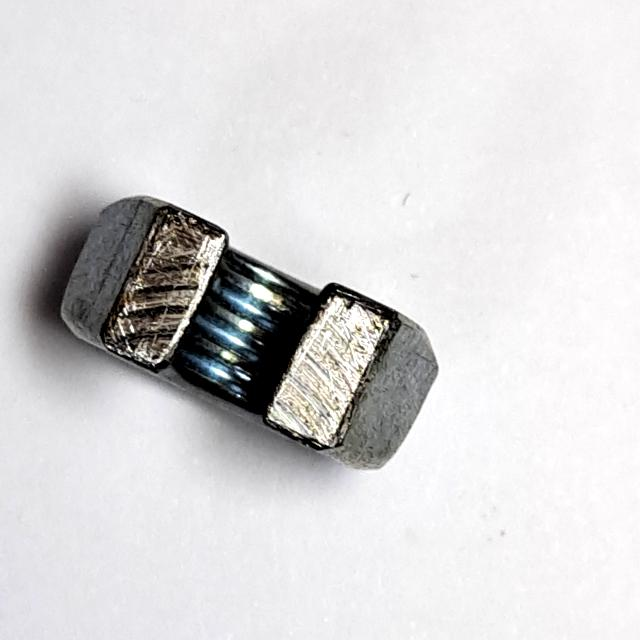Side-Fracture: (49, 188, 455, 486)
